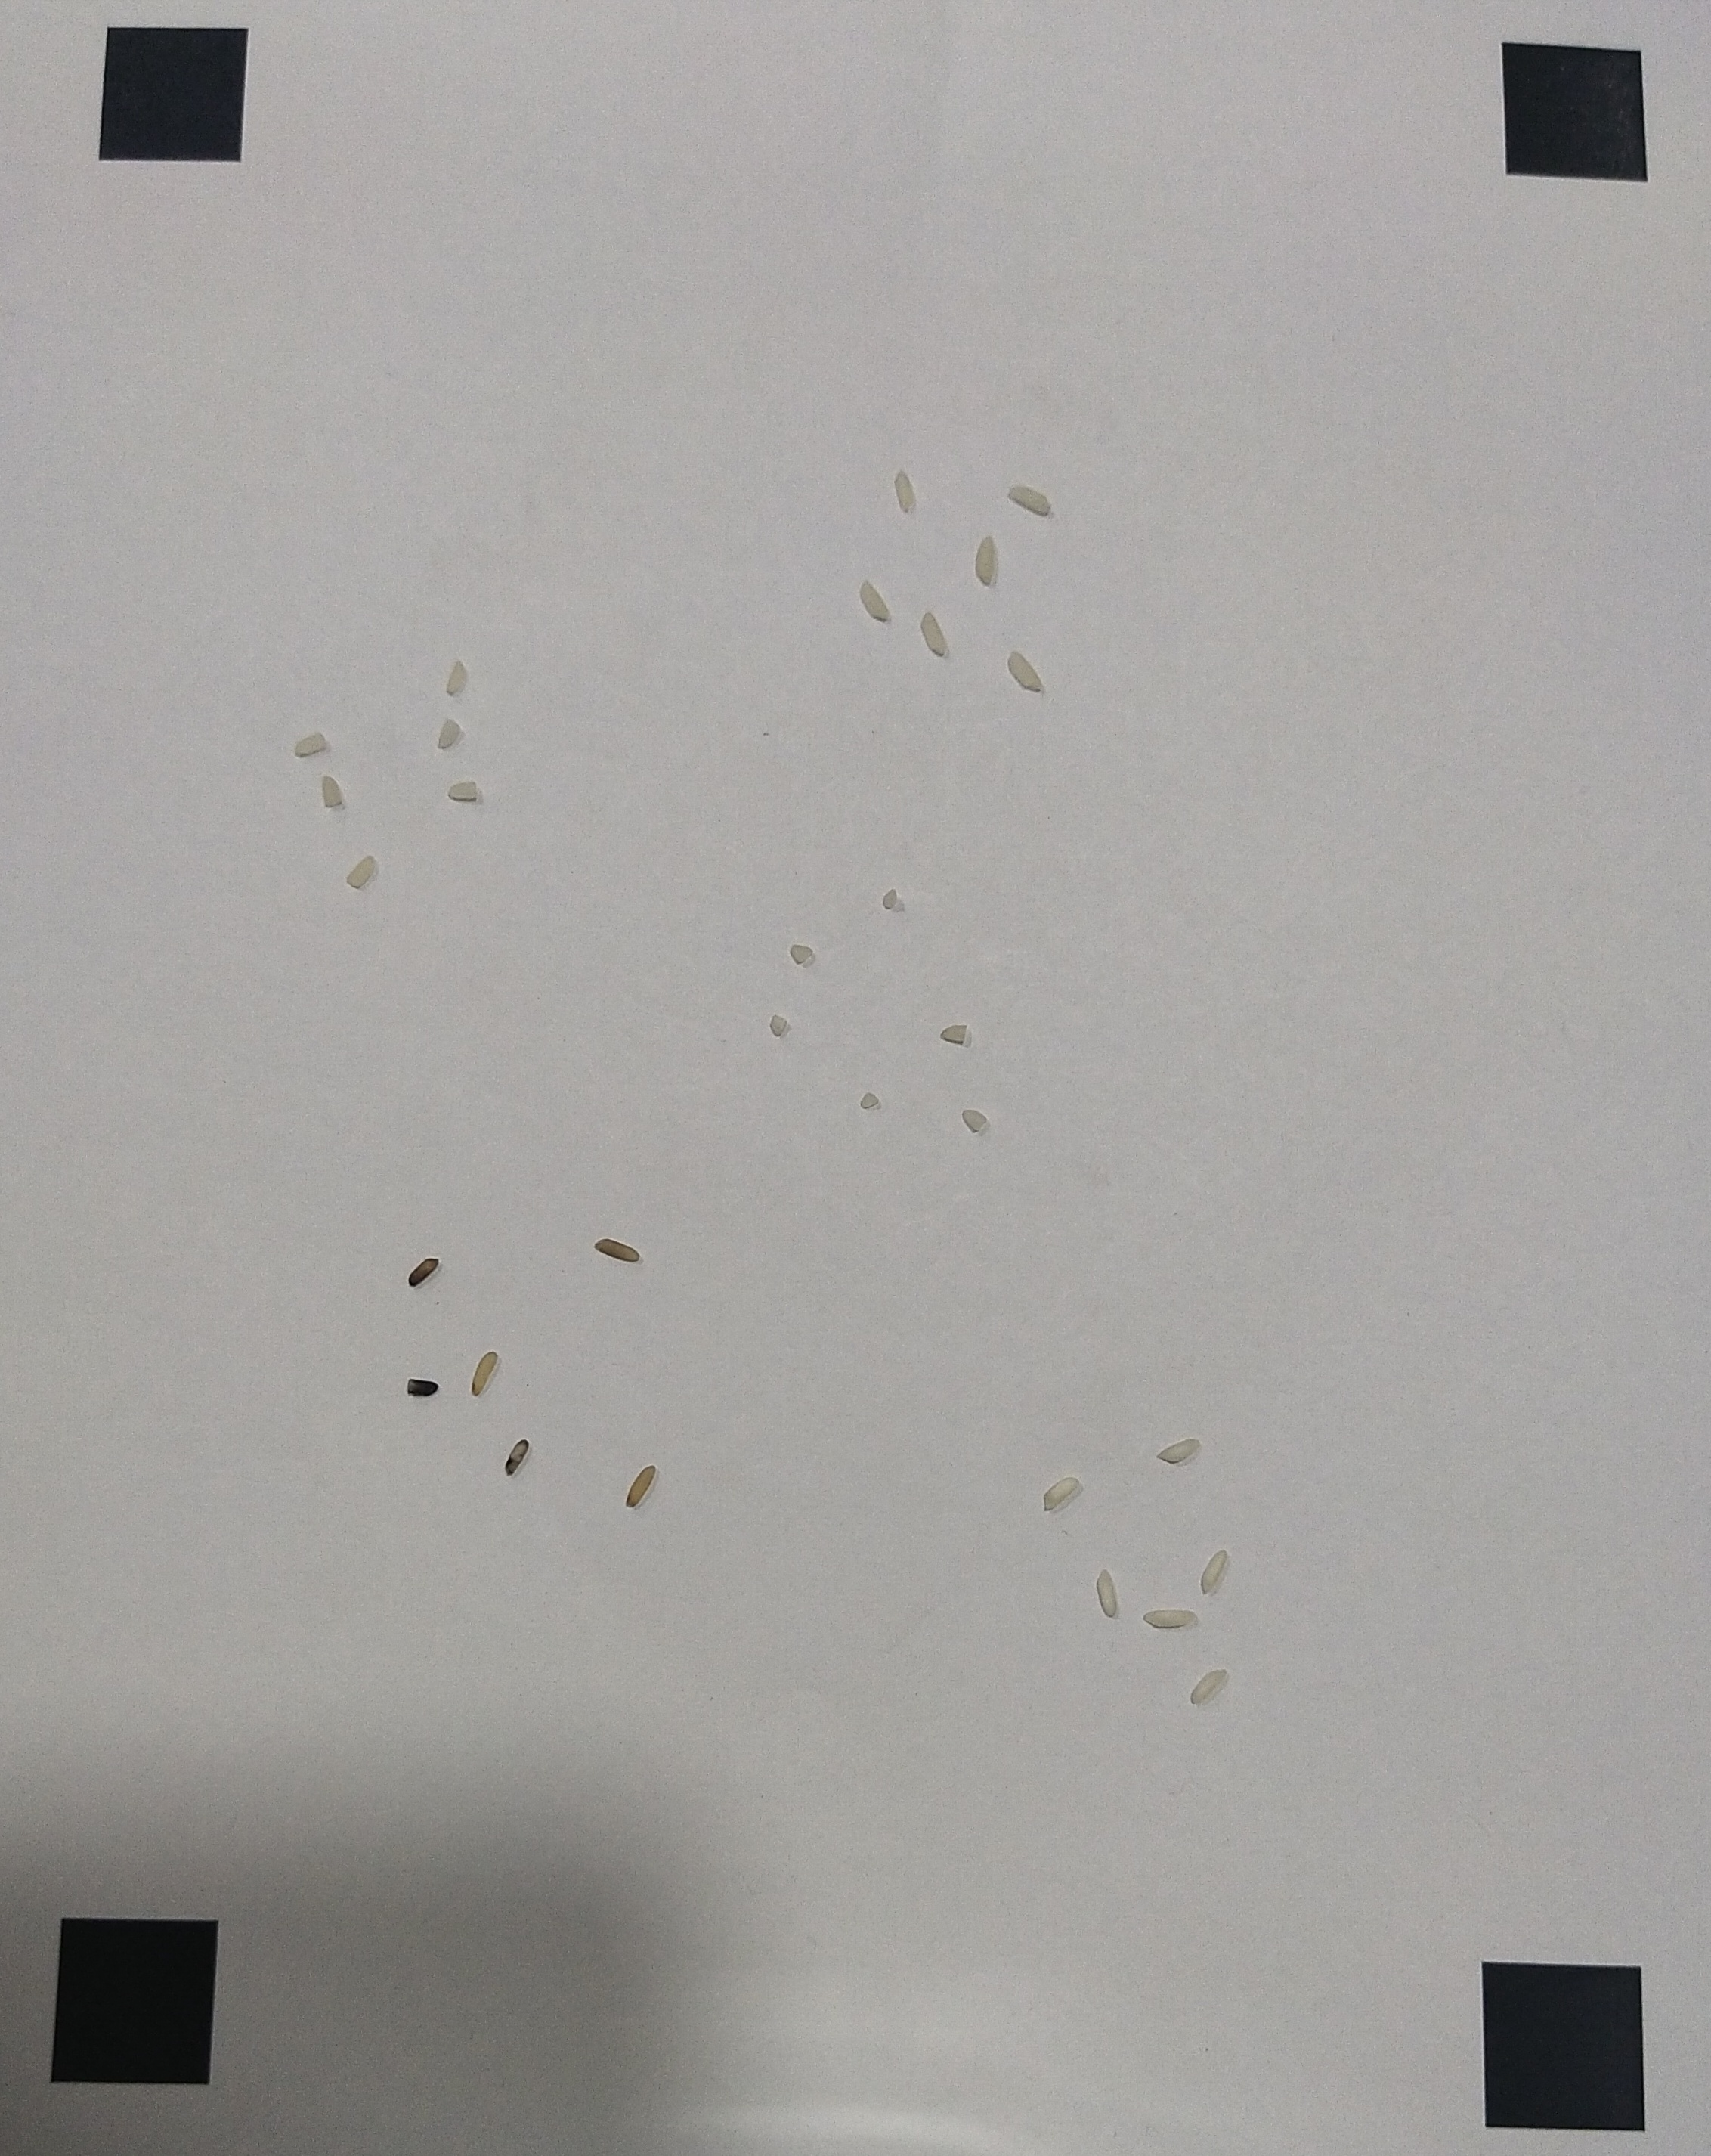broken: (959, 1104, 994, 1136), (789, 940, 815, 964), (939, 1024, 969, 1045), (768, 1013, 789, 1036), (880, 889, 903, 908), (861, 1090, 880, 1109)
chalky: (1188, 1668, 1230, 1704), (1041, 1475, 1083, 1510), (1198, 1549, 1228, 1598), (1156, 1437, 1202, 1463), (1142, 1608, 1197, 1629), (1097, 1568, 1120, 1617)
damage: (444, 775, 483, 805), (318, 773, 346, 814), (444, 658, 471, 700), (345, 854, 378, 885), (294, 728, 327, 754), (437, 717, 462, 751)
discolor: (593, 1234, 640, 1265), (626, 1466, 656, 1512), (472, 1351, 500, 1398), (506, 1438, 534, 1482), (408, 1256, 441, 1290), (409, 1377, 439, 1398)
good: (1006, 478, 1053, 516), (1006, 651, 1044, 693), (859, 577, 892, 623), (973, 537, 999, 584), (920, 611, 946, 656), (894, 467, 915, 514)
